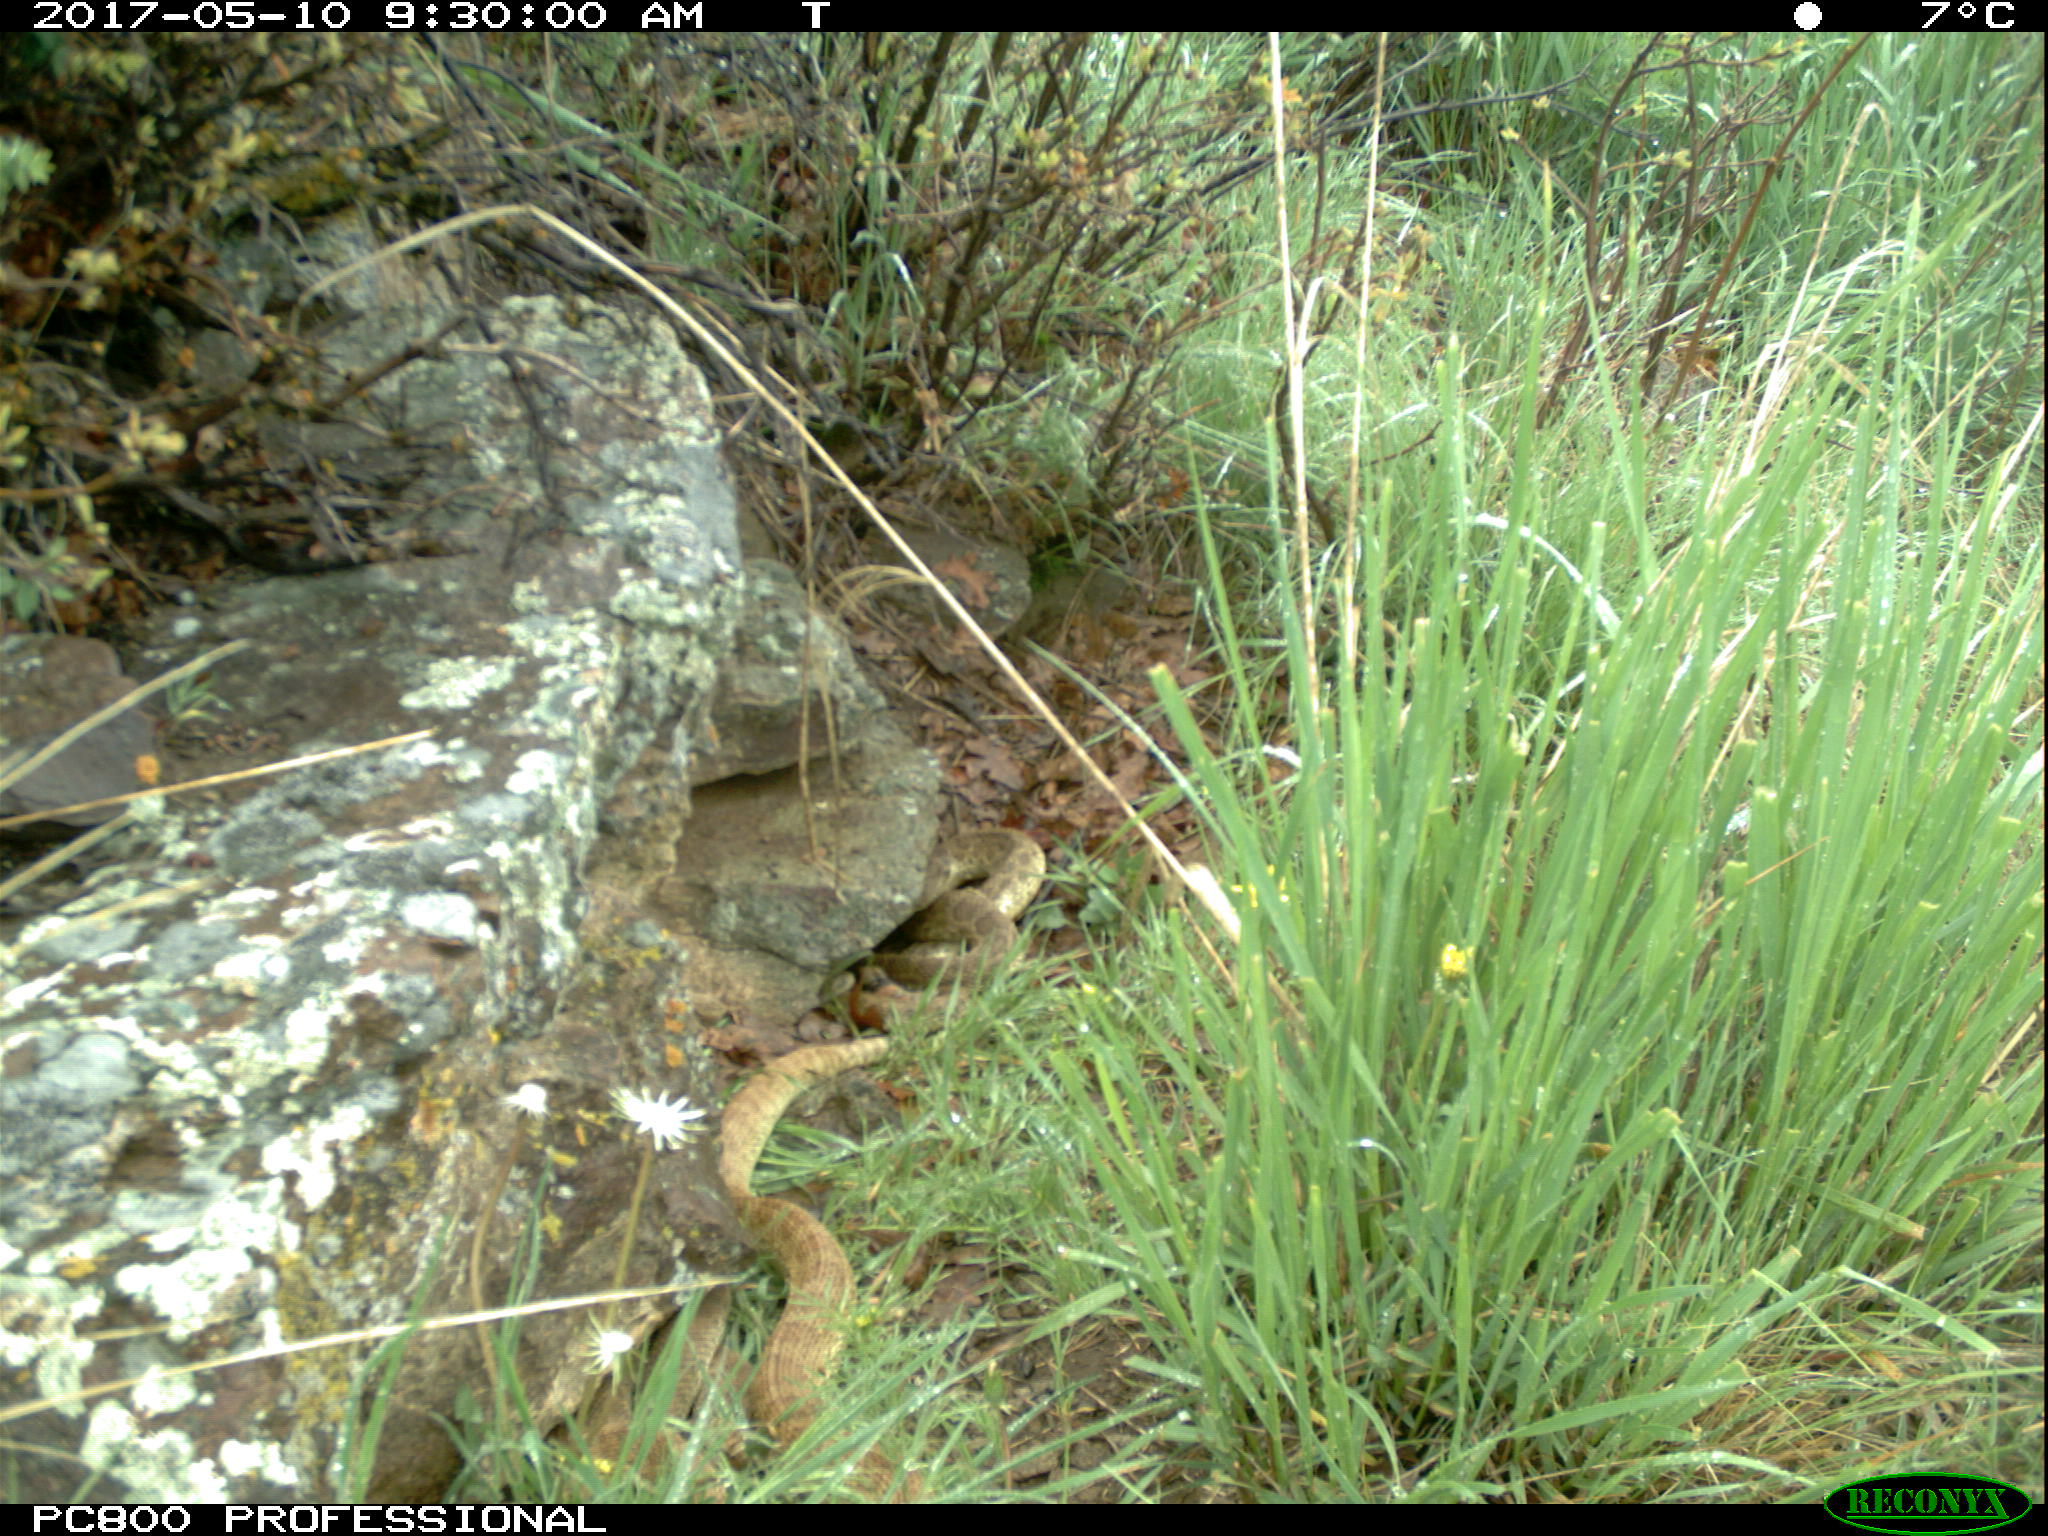snake: (718, 1025, 932, 1502), (847, 828, 1045, 1025), (635, 1305, 739, 1463)
